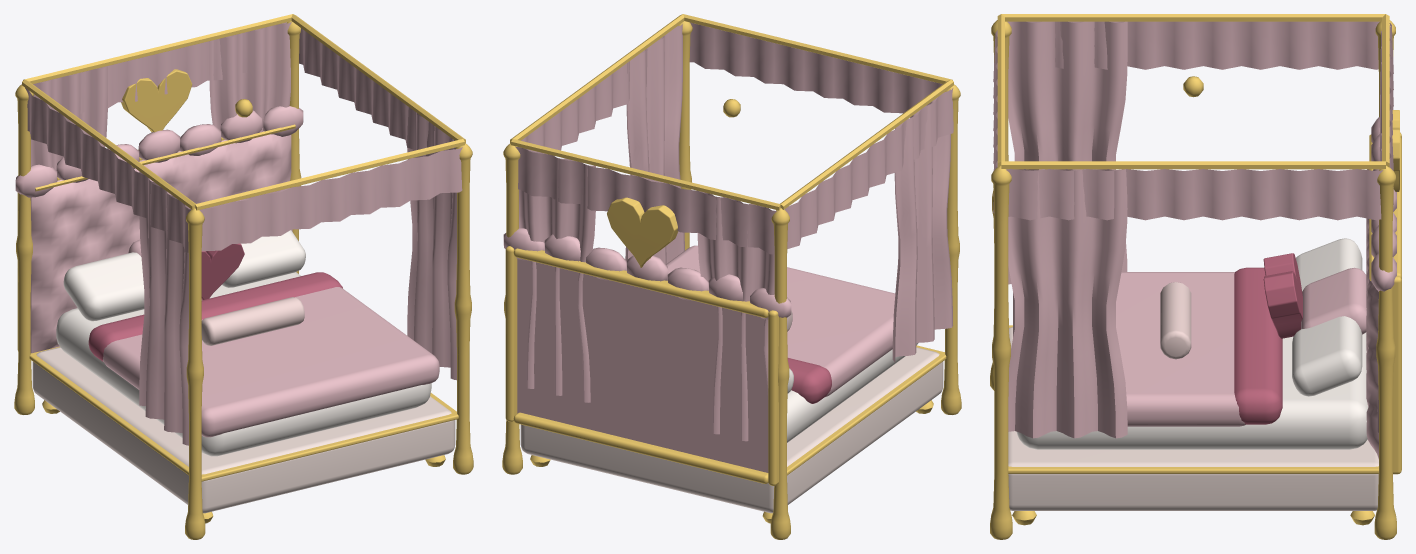
Rendered from bed_canopy.glb.
3 renders of one model, left to right at view 1: azimuth 30°, elevation 25°; view 2: azimuth 150°, elevation 25°; view 3: azimuth 270°, elevation 25°, orthographic. The views are drawn at different scales.
Visible parts, largest first — view 1: bed_canopy; view 2: bed_canopy; view 3: bed_canopy.
Part boxes in pixels (x1=…): bed_canopy: x1=14, y1=14, x2=473, y2=539; bed_canopy: x1=502, y1=14, x2=961, y2=539; bed_canopy: x1=990, y1=14, x2=1401, y2=539.
Size of the model in its own units: 2.1 by 2.39 by 2.31.
